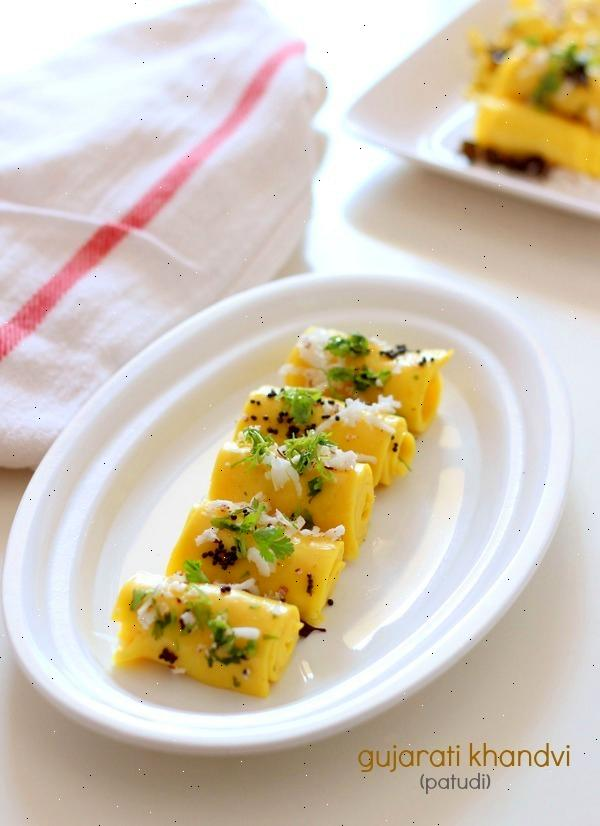khandvi: (196, 322, 450, 692)
